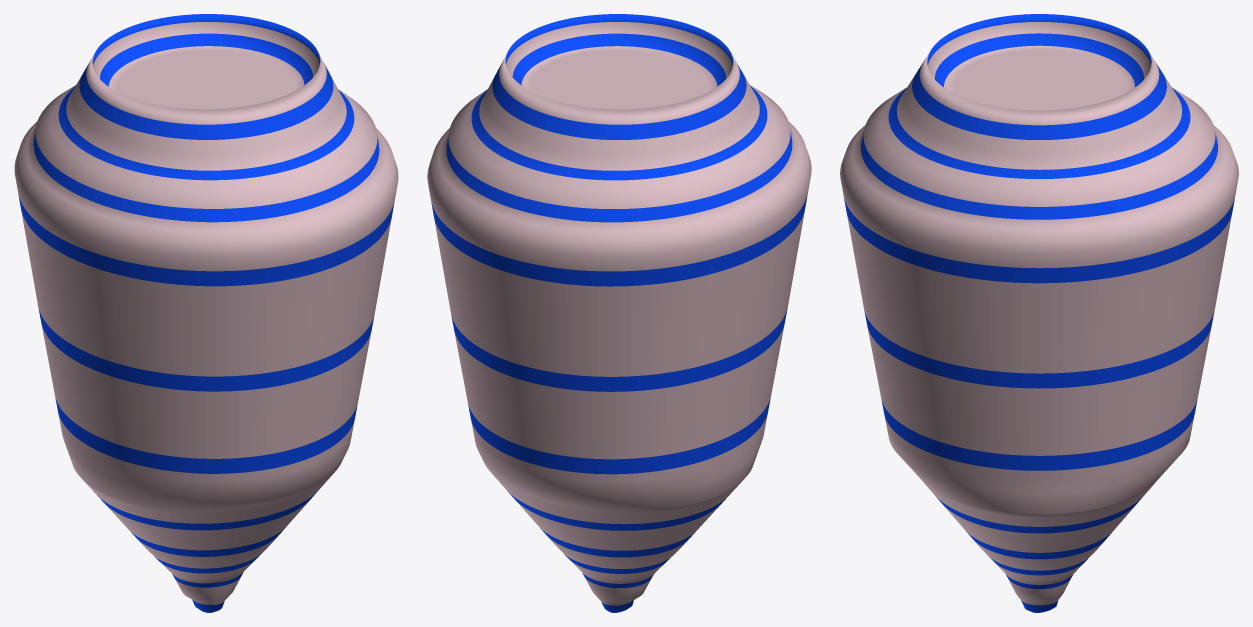
The model's file is body-b.gltf.
3 renders of one model, left to right at view 1: azimuth 30°, elevation 25°; view 2: azimuth 150°, elevation 25°; view 3: azimuth 270°, elevation 25°, orthographic.
Parts seen in each view (by area): view 1: Cylinder; view 2: Cylinder; view 3: Cylinder.
Part boxes in pixels (bbox=[...]): Cylinder: bbox=[14, 14, 398, 612]; Cylinder: bbox=[427, 14, 811, 612]; Cylinder: bbox=[840, 14, 1238, 612].
Bounding box in the file's own units: 1.27 × 2.03 × 1.34.
